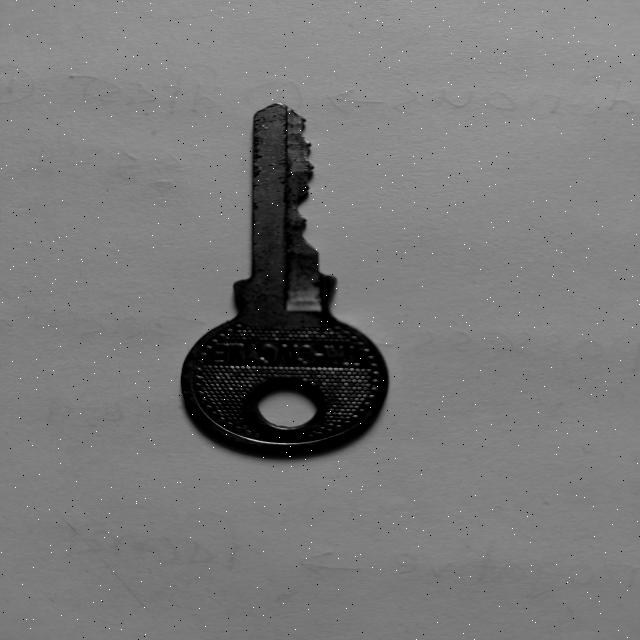key: (181, 103, 388, 449)
